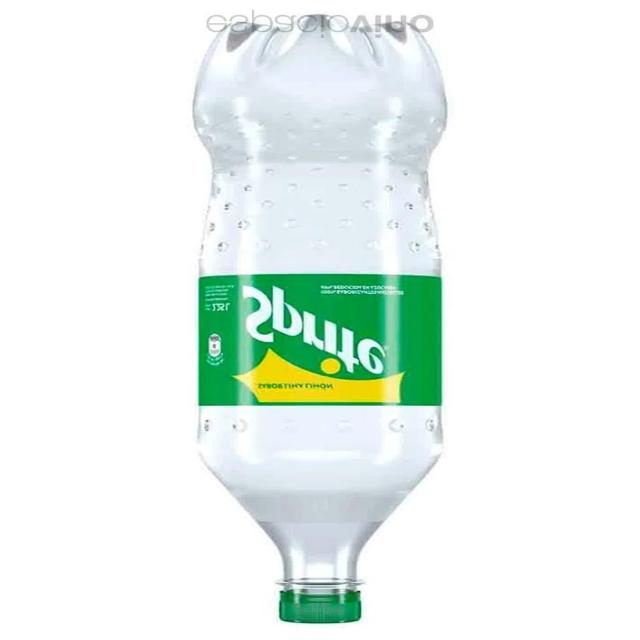sprite: (173, 6, 466, 631)
